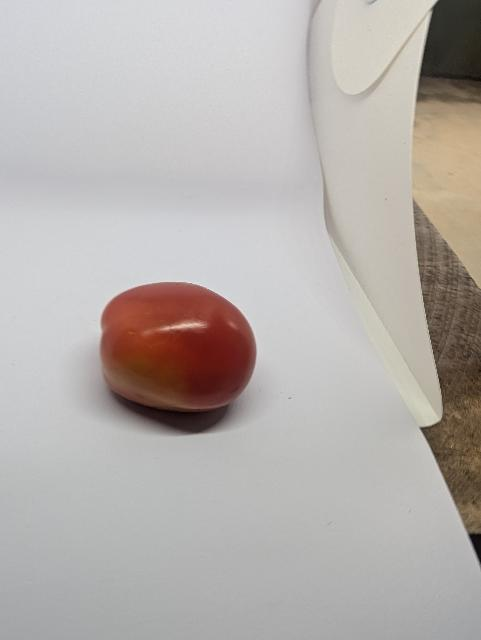red: (85, 264, 259, 427)
